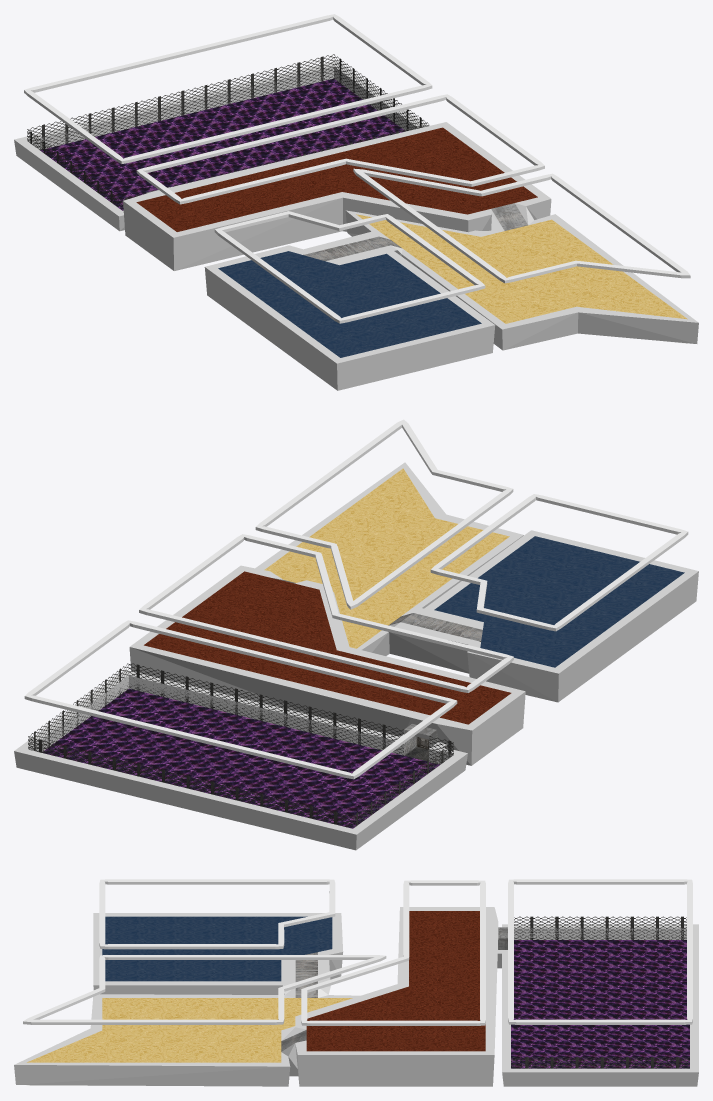
Rendered from Map.glb.
3 renders of one model, top to bottom at view 1: azimuth 30°, elevation 25°; view 2: azimuth 150°, elevation 25°; view 3: azimuth 270°, elevation 25°, orthographic. The views are drawn at different scales.
Visible parts, largest first — view 1: Ceilings, MapCollisons, Map, MiniRoomLine4, MiniRoomLine3, MiniRoomLine2, MiniRoomLine1; view 2: Ceilings, MapCollisons, Map, MiniRoomLine4, MiniRoomLine3, MiniRoomLine2, MiniRoomLine1; view 3: Ceilings, MapCollisons, Map, MiniRoomLine2, MiniRoomLine4, MiniRoomLine3, MiniRoomLine1.
Boxes of the visible parts, left/top/right/bottom form: Ceilings: left=136, top=127, right=687, bottom=357; MapCollisons: left=14, top=61, right=698, bottom=390; Map: left=27, top=54, right=429, bottom=210; MiniRoomLine4: left=24, top=14, right=432, bottom=163; MiniRoomLine3: left=136, top=94, right=544, bottom=204; MiniRoomLine2: left=353, top=168, right=690, bottom=283; MiniRoomLine1: left=214, top=211, right=485, bottom=323; Ceilings: left=144, top=468, right=684, bottom=735; MapCollisons: left=14, top=462, right=698, bottom=850; Map: left=28, top=663, right=453, bottom=828; MiniRoomLine4: left=24, top=620, right=457, bottom=779; MiniRoomLine3: left=139, top=534, right=513, bottom=692; MiniRoomLine2: left=255, top=419, right=513, bottom=609; MiniRoomLine1: left=430, top=494, right=688, bottom=631; Ceilings: left=27, top=911, right=507, bottom=1062; MapCollisons: left=14, top=907, right=698, bottom=1086; Map: left=498, top=916, right=689, bottom=1068; MiniRoomLine2: left=23, top=955, right=386, bottom=1024; MiniRoomLine4: left=508, top=879, right=692, bottom=1024; MiniRoomLine3: left=301, top=880, right=485, bottom=1025; MiniRoomLine1: left=99, top=879, right=335, bottom=949.
Bounding box in the file's own units: 54.83 × 11.23 × 107.
Materials: 17 (16 with a texture image).
